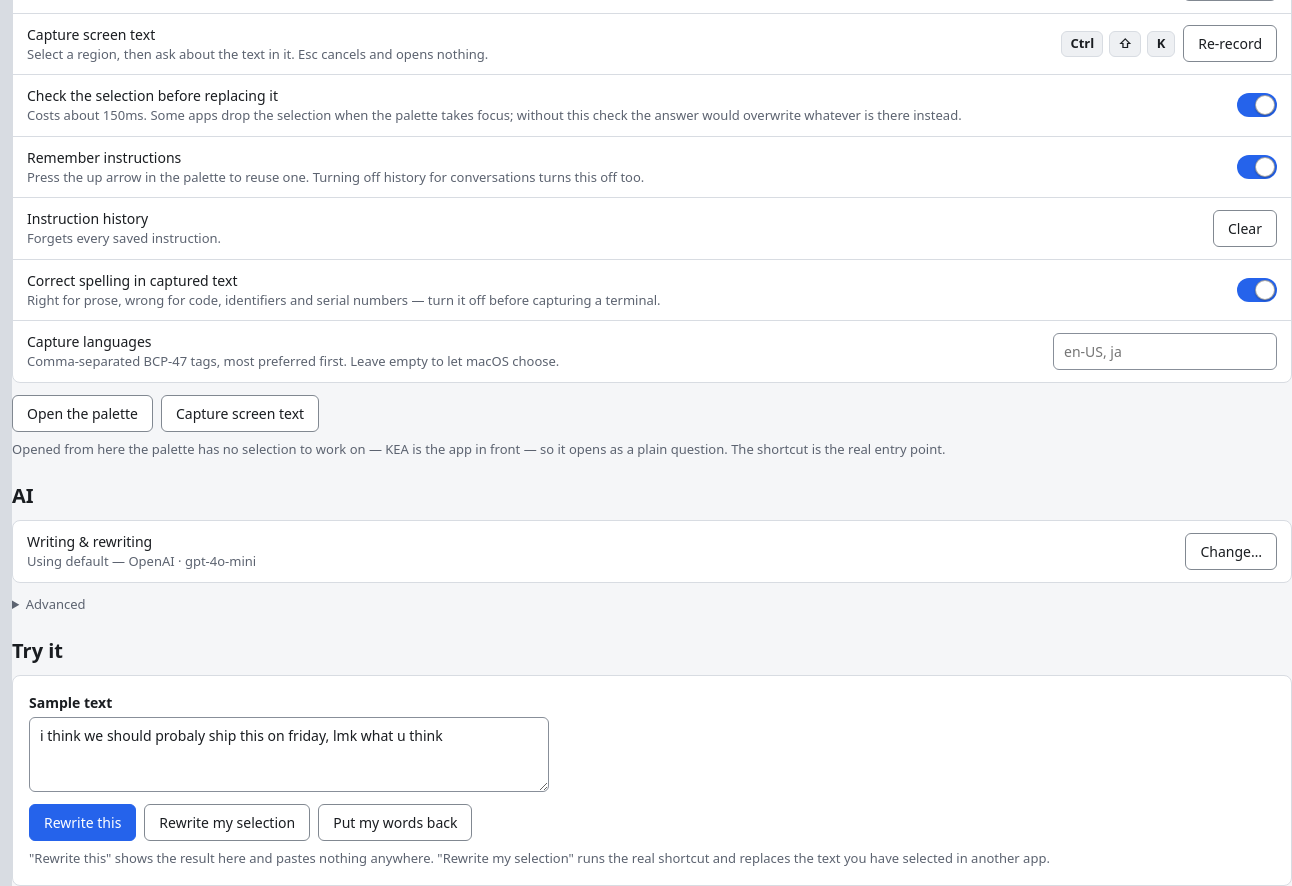
Scenario: RewritePage › rewrites the sample text without pasting it anywhere
(page scrolled)
Click the button "Rewrite this" at (83, 823), box [29, 804, 136, 841]
(page scrolled)
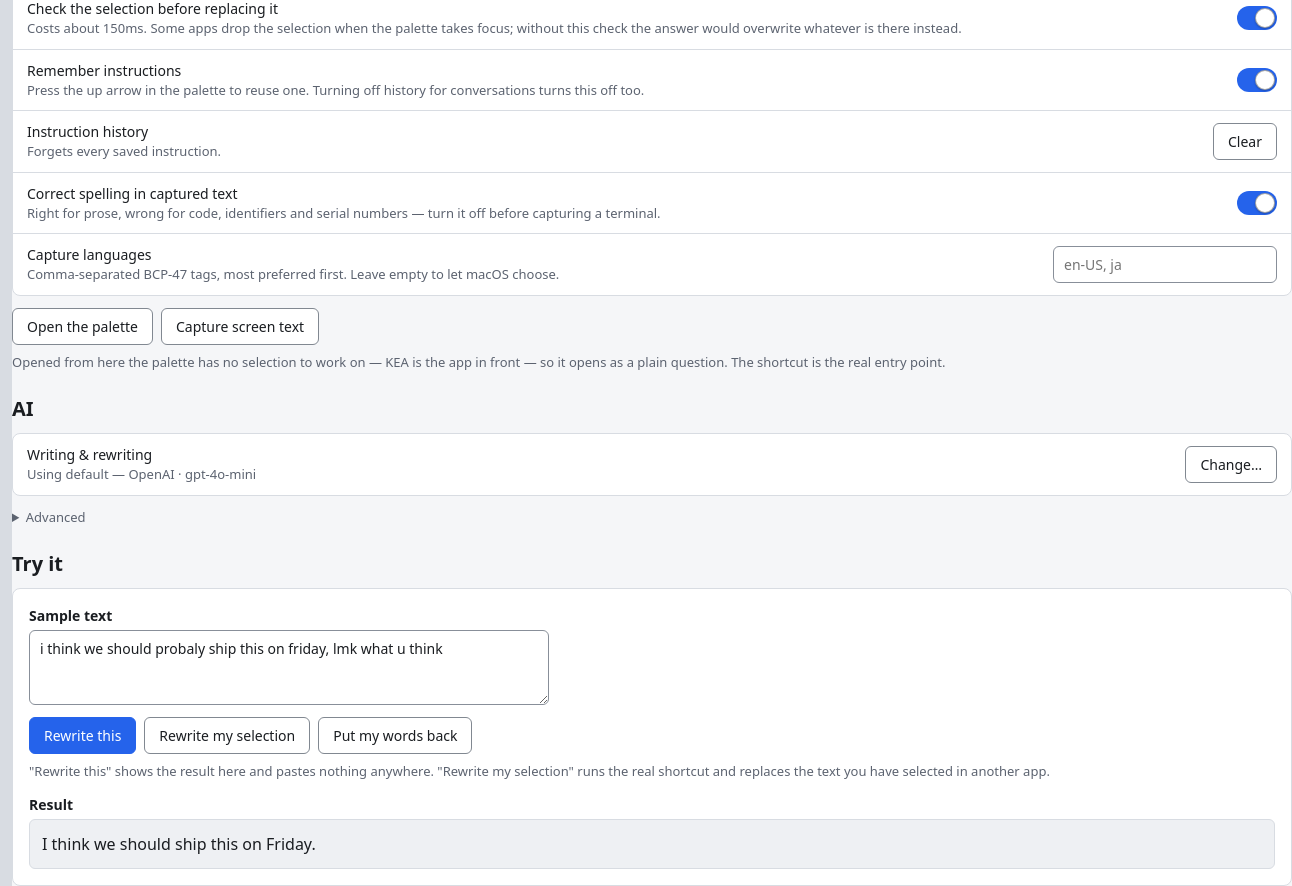
Expected: the text "I think we should ship this on Friday." is shown, [29, 819, 1275, 869]
